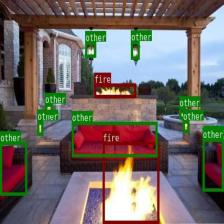fire: (102, 142, 158, 223), (94, 84, 136, 98)
